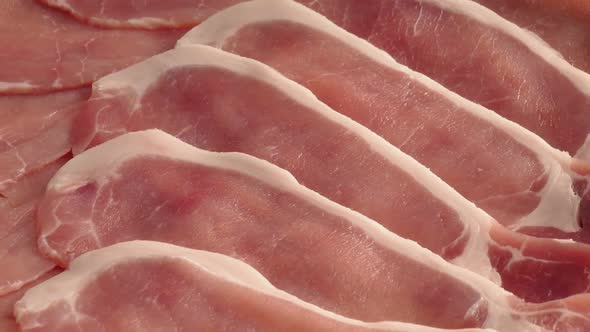bacon: (80, 36, 494, 274), (26, 135, 524, 332)
